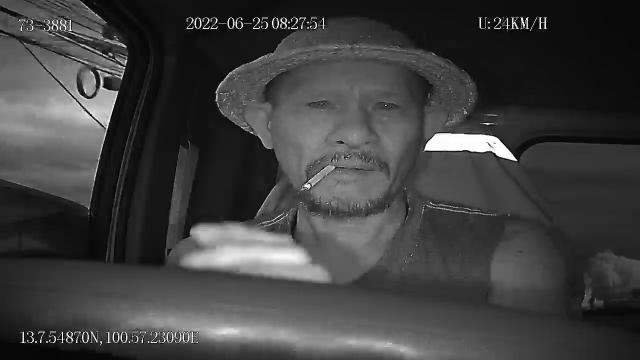SafeDriving: (364, 90, 409, 118), (300, 90, 342, 114)
Smoking: (302, 162, 336, 192)
